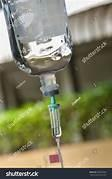Iv_Bottle: (1, 0, 71, 74)
Syringe: (49, 96, 63, 167)
